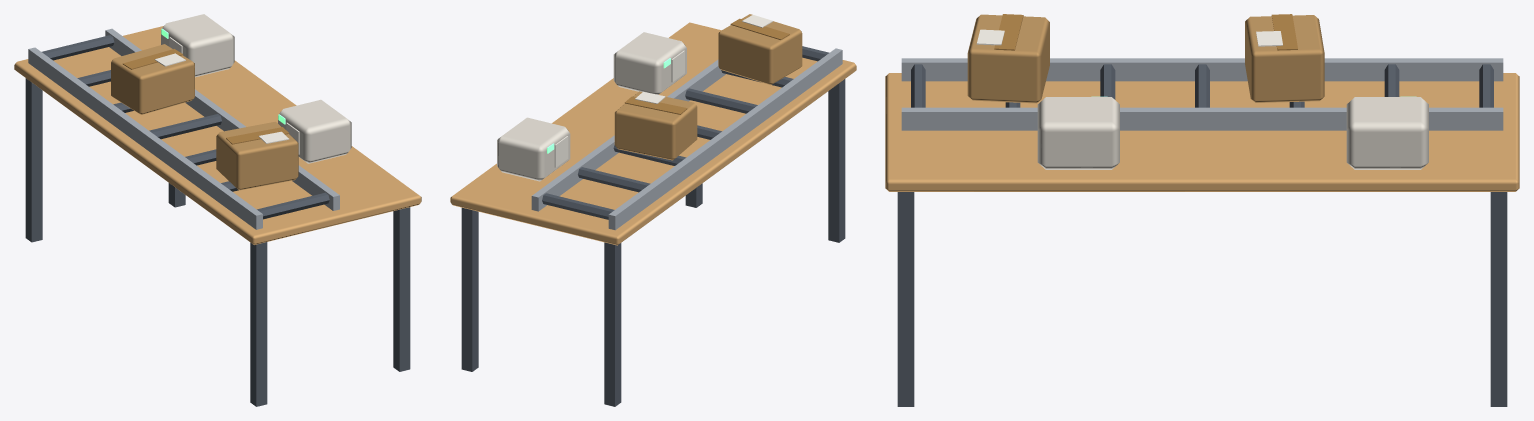
The model's file is station_intake_ausstattung_3_2.glb.
The picture shows the model from 3 angles, left to right: view 1: azimuth 30°, elevation 25°; view 2: azimuth 150°, elevation 25°; view 3: azimuth 270°, elevation 25°; orthographic projection. The views are drawn at different scales.
Visible parts, largest first — view 1: station_intake_ausstattung_3_2; view 2: station_intake_ausstattung_3_2; view 3: station_intake_ausstattung_3_2.
Boxes of the visible parts, bbox=[...] form: station_intake_ausstattung_3_2: bbox=[14, 14, 421, 406]; station_intake_ausstattung_3_2: bbox=[450, 14, 856, 406]; station_intake_ausstattung_3_2: bbox=[885, 14, 1519, 406].
Bounding box in the file's own units: 0.63 × 0.8165 × 1.54.
